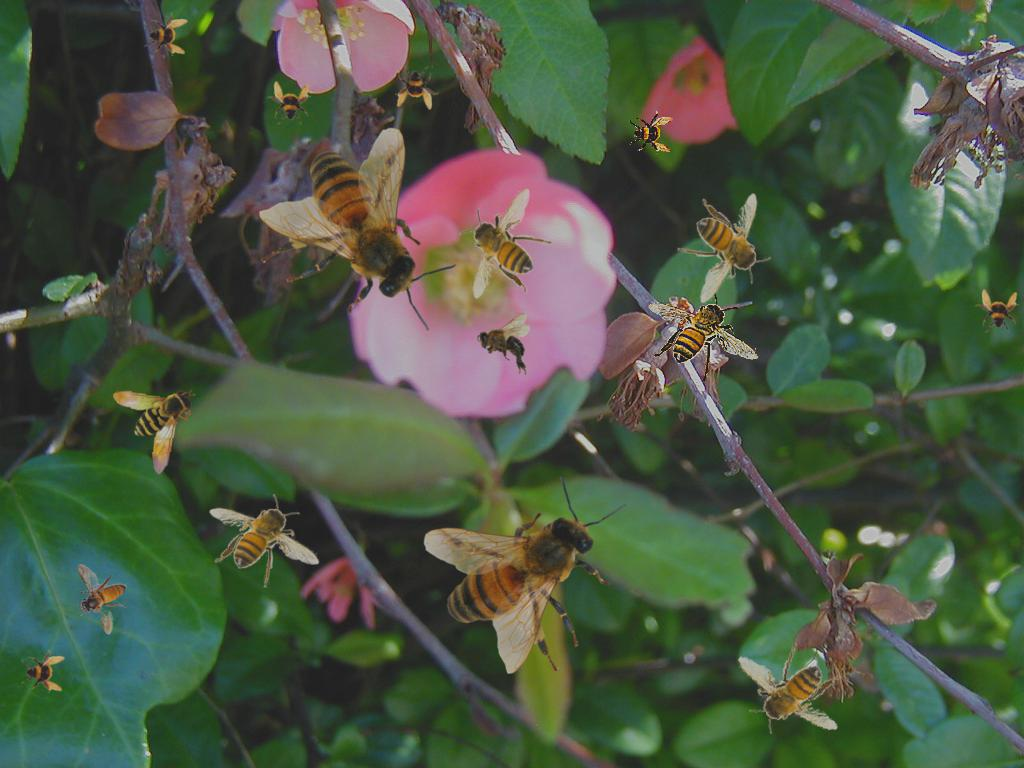Bee: (423, 475, 627, 674), (259, 127, 458, 331), (725, 633, 852, 745), (459, 188, 553, 299), (209, 494, 320, 588), (648, 289, 759, 383), (677, 193, 771, 304), (108, 383, 196, 477), (77, 564, 127, 635), (477, 313, 530, 375), (395, 66, 439, 110), (975, 289, 1019, 333), (629, 110, 673, 154), (144, 12, 188, 56), (267, 81, 311, 125), (21, 649, 65, 693)
